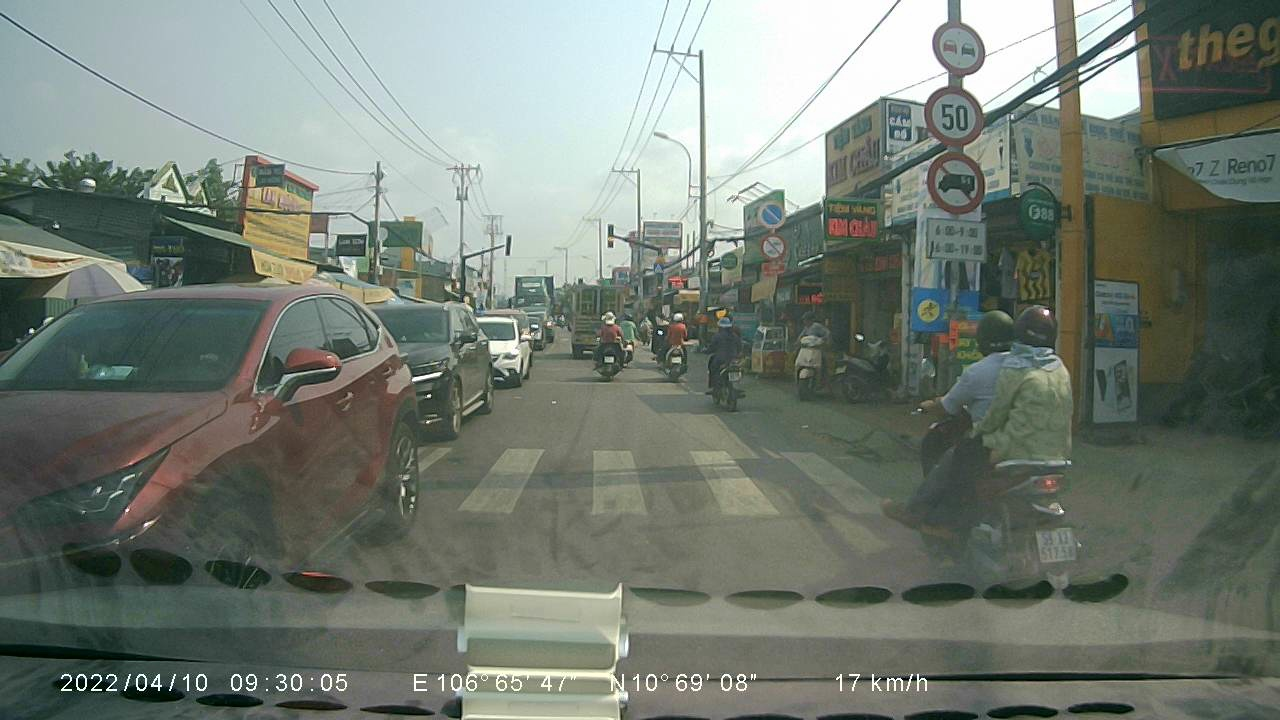Bien khac: (923, 150, 986, 218), (921, 84, 987, 144), (930, 15, 988, 76)
Cam do xe: (754, 201, 787, 232)
